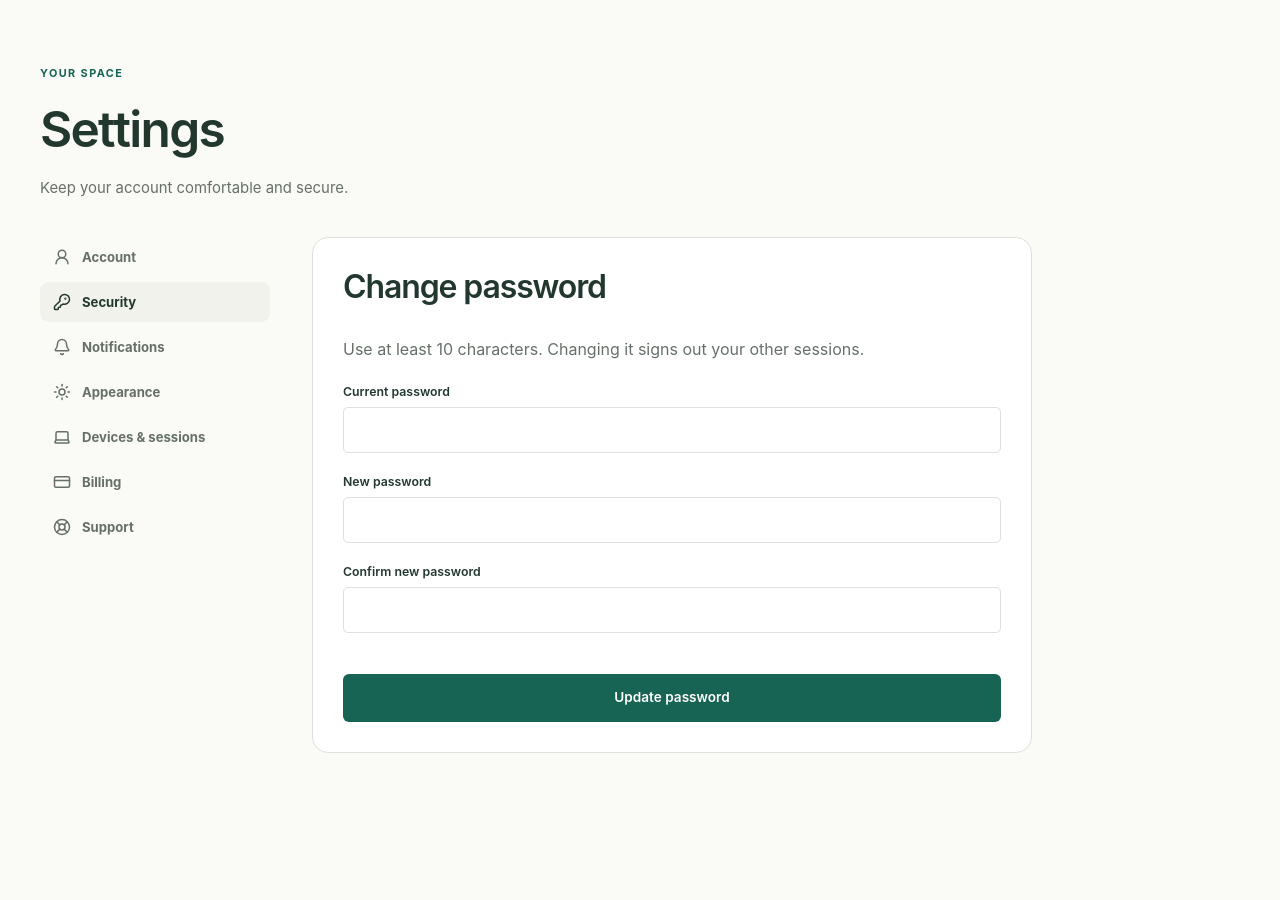
Test case: opens settings sections and submits authenticated password changes
Expected: the heading "Change password" is shown, 343,267 -> 606,306
Type "current-passphrase" into the password field labelled "Current password" at (672, 430), box 343,407 -> 1001,453
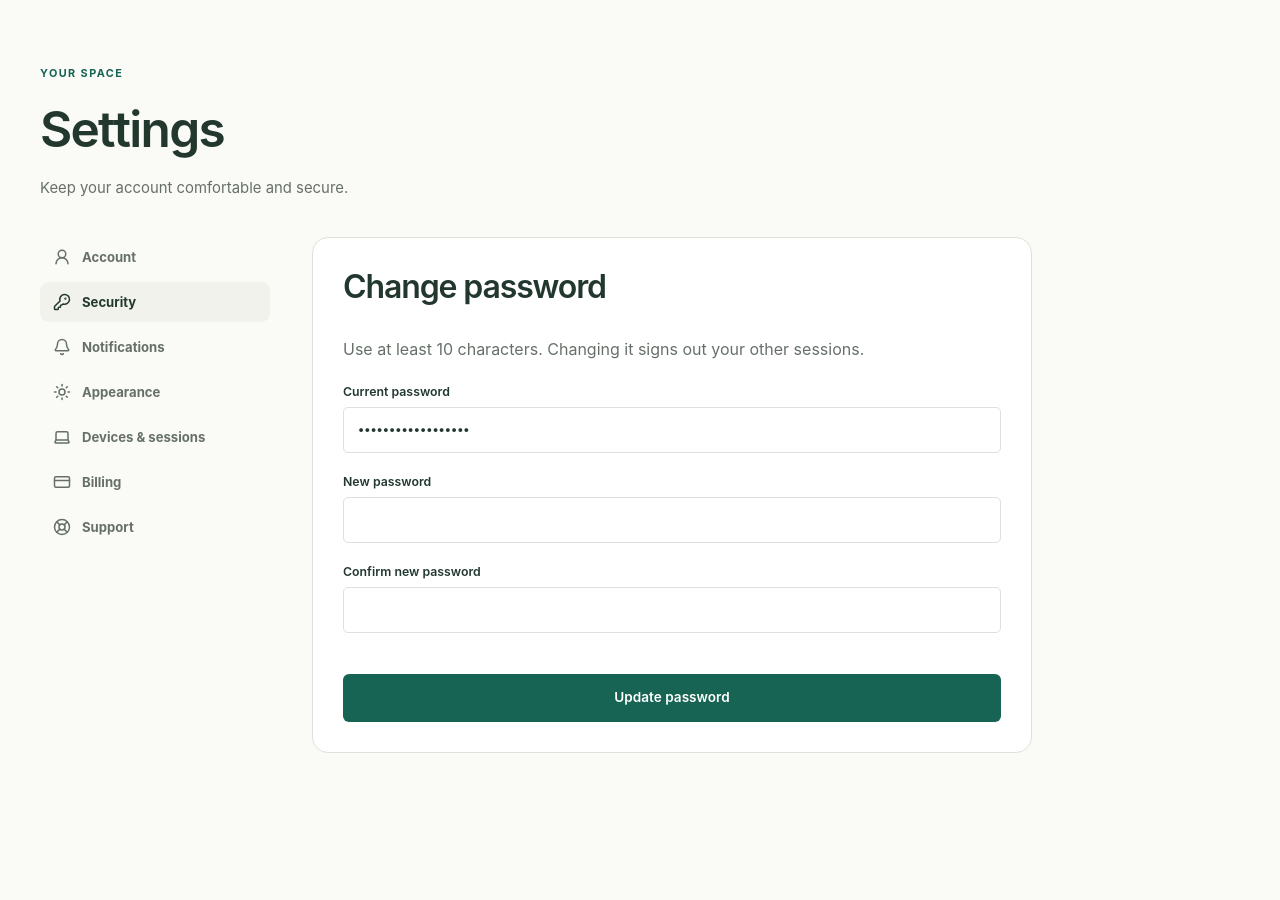
Type "new-password-value" into the password field labelled "New password" at (672, 520), box 343,497 -> 1001,543
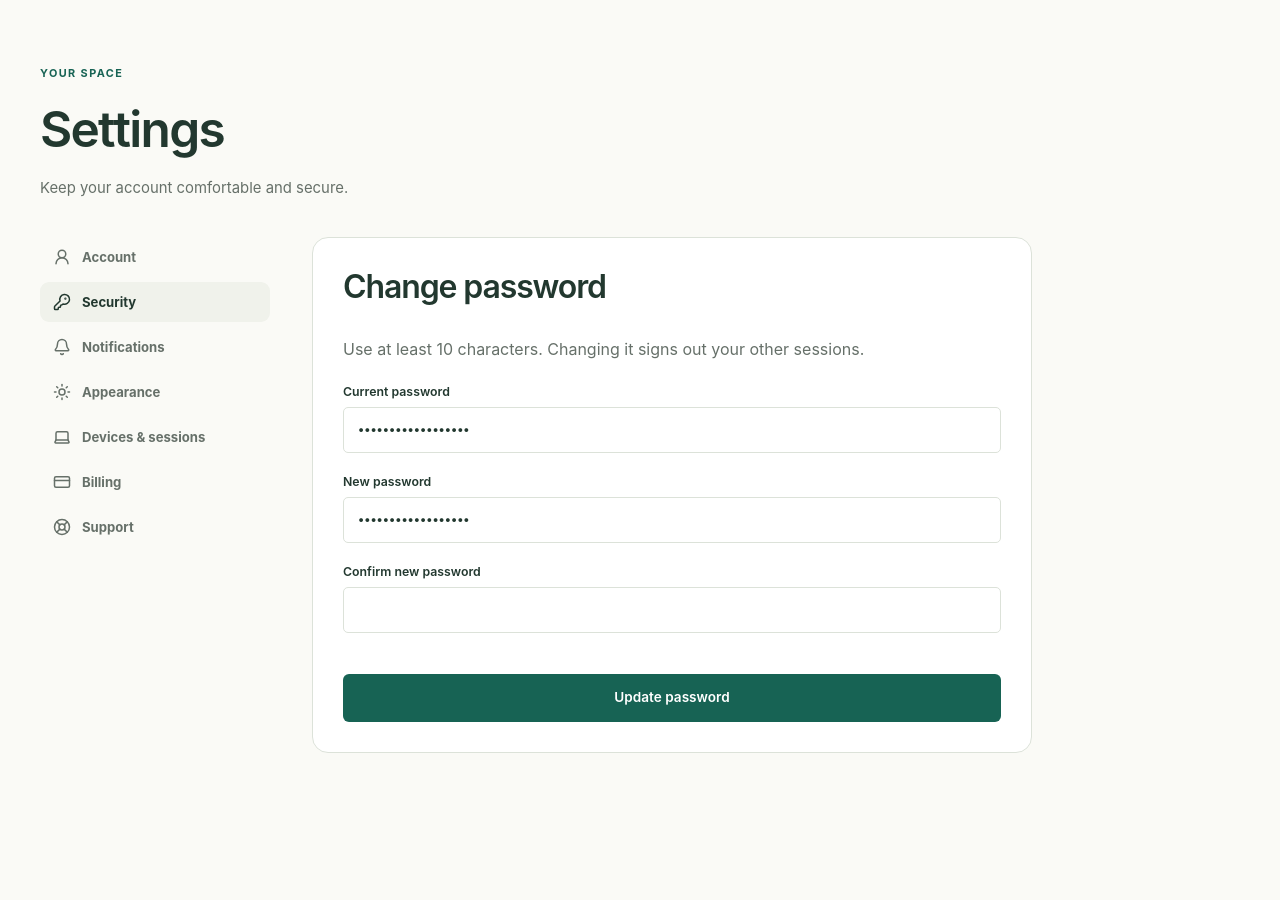
Type "new-password-value" into the password field labelled "Confirm new password" at (672, 610), box 343,587 -> 1001,633
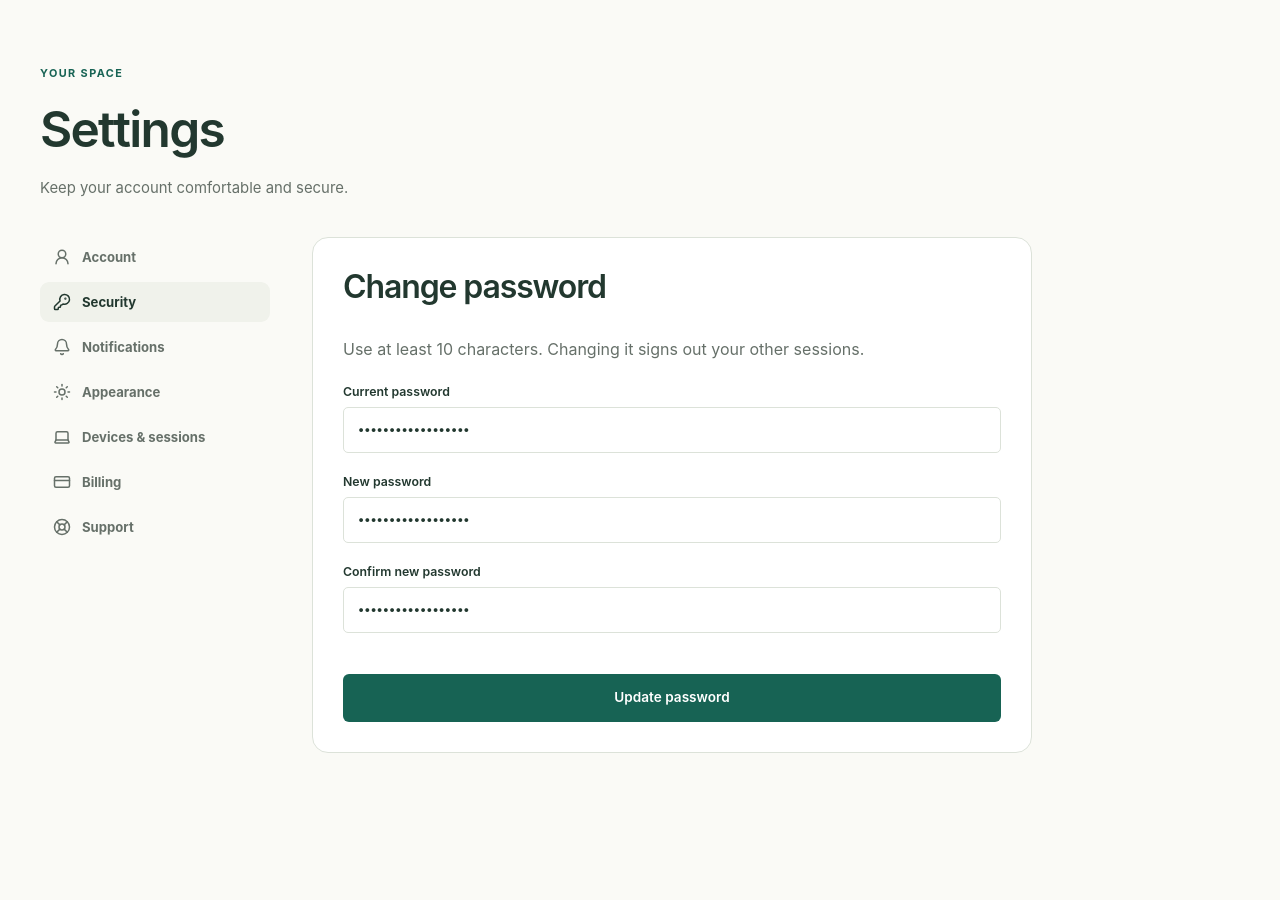
Click the button "Update password" at (672, 698), box 343,674 -> 1001,722
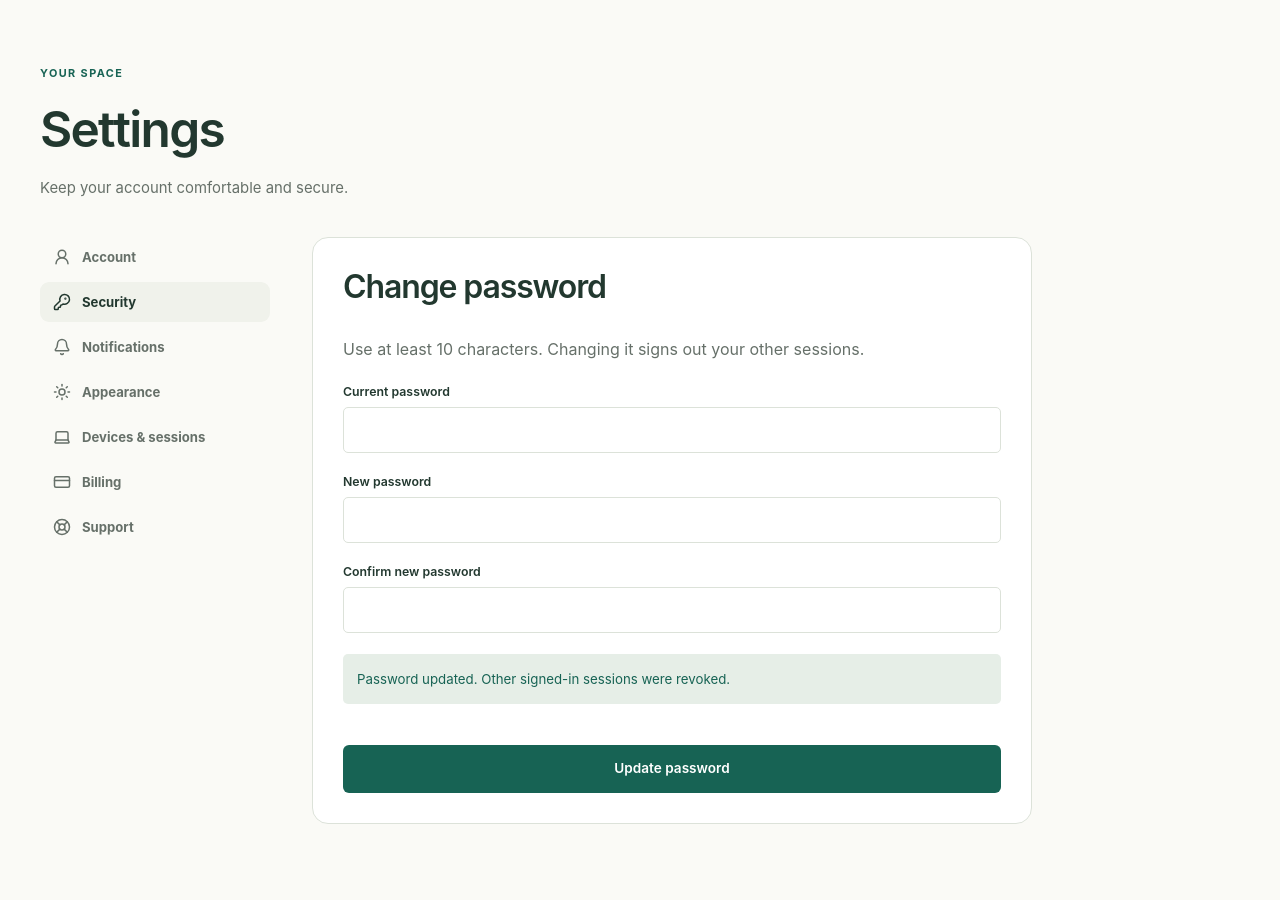
Now the text "Password updated. Other signed-in sessions were revoked." is shown, box 343,654 -> 1001,704
